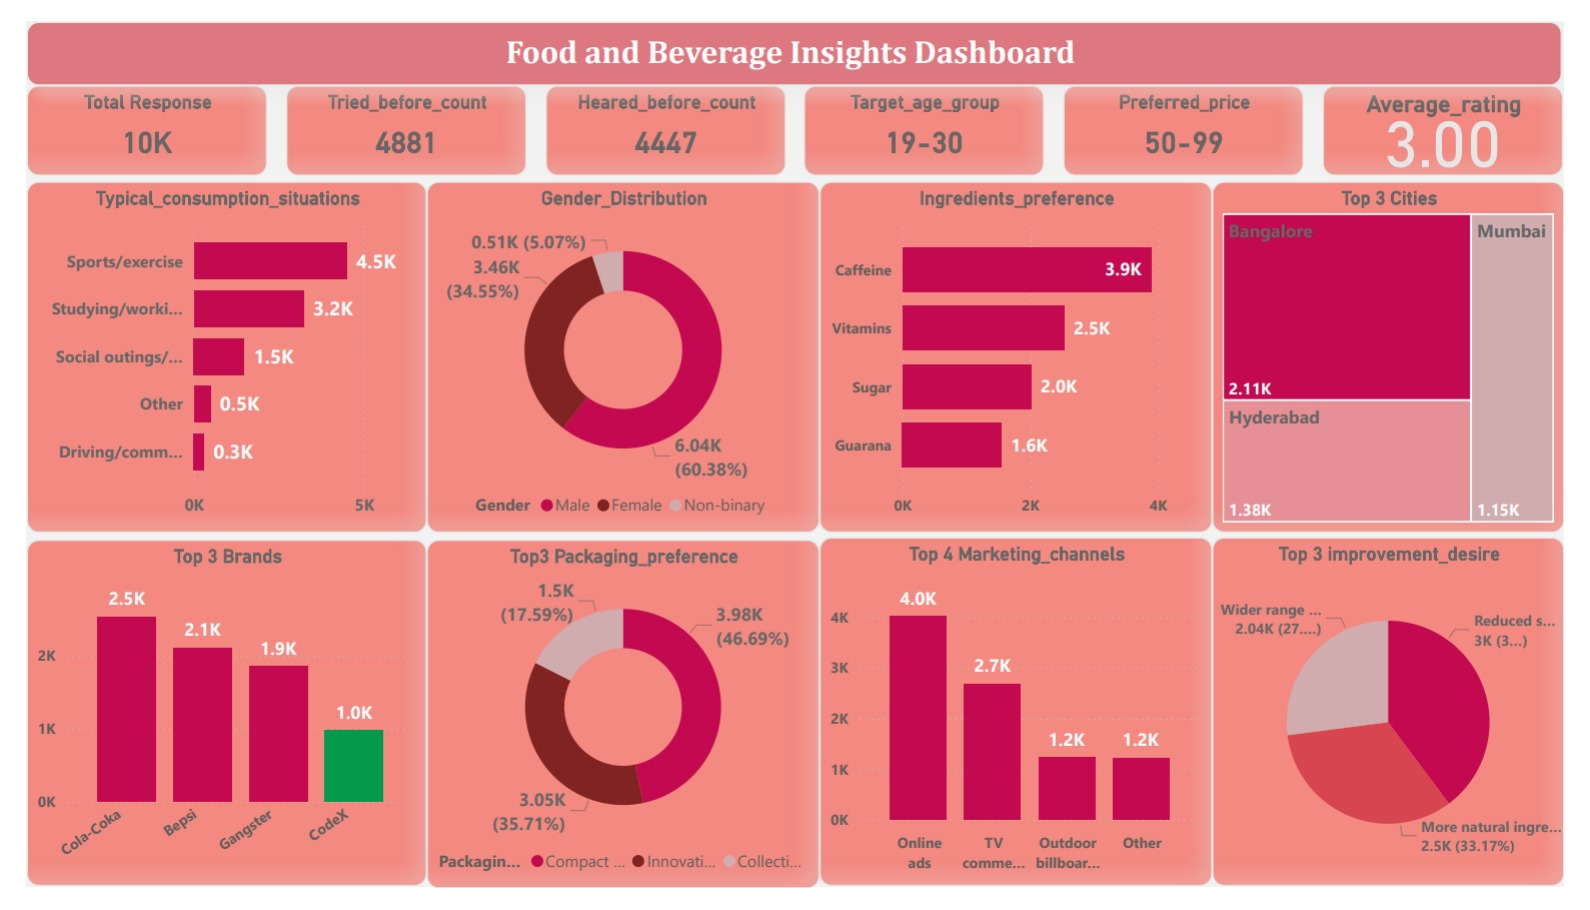

What the dashboard file says about the page in this screenshot:
{"tool":"powerbi","page":{"name":"Final Insights","canvas":[1280,720],"ordinal":3},"visuals":[{"type":"card","title":"Total Response","fields":{"Values":["CountNonNull(fact_survey_responses.Response_ID)"]},"box":[0,53,200,75],"z":0},{"type":"card","title":"Tried_before_count","fields":{"Values":["fact_survey_responses.Tried_count"]},"box":[215.8,53,200,75],"z":1000},{"type":"card","title":"Heared_before_count","fields":{"Values":["fact_survey_responses.Heard_count"]},"box":[431.5,53,200,75],"z":2000},{"type":"card","title":"Target_age_group ","fields":{"Values":["Min(dim_repondents.Age)"]},"box":[647.3,53,200,75],"z":3000},{"type":"card","title":"Preferred_price ","fields":{"Values":["Min(fact_survey_responses.Price_range)"]},"box":[863,53,200,75],"z":4000},{"type":"kpi","title":"Average_rating ","fields":{"Indicator":["Avg(fact_survey_responses.Taste_experience)"],"TrendLine":["dim_repondents.Respondent_ID"]},"box":[1078.8,53,200.7,75],"z":5000},{"type":"clusteredBarChart","title":"Typical_consumption_situations","fields":{"Category":["fact_survey_responses.Typical_consumption_situations"],"Y":["CountNonNull(dim_repondents.Respondent_ID)"]},"box":[0,133.4,333.4,291.2],"z":6000},{"type":"donutChart","title":"Gender_Distribution","fields":{"Category":["dim_repondents.Gender"],"Y":["CountNonNull(dim_repondents.Respondent_ID)"]},"box":[333.4,133.4,326.9,291.2],"z":7000},{"type":"barChart","title":"Ingredients_preference","fields":{"Category":["fact_survey_responses.Ingredients_expected"],"Y":["CountNonNull(dim_repondents.Respondent_ID)"]},"box":[660.4,133.4,326.9,291.2],"z":8000},{"type":"columnChart","title":"Top 3 Brands","fields":{"Category":["fact_survey_responses.Current_brands"],"Y":["CountNonNull(dim_repondents.Respondent_ID)"]},"box":[0,431,333.4,287.9],"z":9000},{"type":"donutChart","title":"Top3 Packaging_preference","fields":{"Y":["CountNonNull(dim_repondents.Respondent_ID)"],"Category":["fact_survey_responses.Packaging_preference"]},"box":[333.4,431,326.9,289.5],"z":10000},{"type":"columnChart","title":"Top 4 Marketing_channels","fields":{"Y":["CountNonNull(dim_repondents.Respondent_ID)"],"Category":["fact_survey_responses.Marketing_channels"]},"box":[660.4,429.4,326.9,289.5],"z":11000},{"type":"treemap","title":"Top 3 Cities","fields":{"Group":["dim_cities.City"],"Values":["CountNonNull(dim_repondents.Respondent_ID)"]},"box":[987.3,133.4,292.8,291.2],"z":12000},{"type":"pieChart","title":"Top 3 improvement_desire","fields":{"Category":["fact_survey_responses.Improvements_desired"],"Y":["CountNonNull(dim_repondents.Respondent_ID)"]},"box":[987.3,429.4,292.8,289.5],"z":13000},{"type":"textbox","box":[0,0,1278.5,53],"z":14000}]}

Visuals, with their boxes in screenshot pixels (x1, y1, x2, y2), scaled from the page's 1280x720 canvas onto the 1590x910 screenshot:
"Total Response" card: 0,67,248,162
"Tried_before_count" card: 268,67,517,162
"Heared_before_count" card: 536,67,784,162
"Target_age_group " card: 804,67,1053,162
"Preferred_price " card: 1072,67,1320,162
"Average_rating " kpi: 1340,67,1589,162
"Typical_consumption_situations" clusteredBarChart: 0,169,414,537
"Gender_Distribution" donutChart: 414,169,820,537
"Ingredients_preference" barChart: 820,169,1226,537
"Top 3 Brands" columnChart: 0,545,414,909
"Top3 Packaging_preference" donutChart: 414,545,820,909
"Top 4 Marketing_channels" columnChart: 820,543,1226,909
"Top 3 Cities" treemap: 1226,169,1589,537
"Top 3 improvement_desire" pieChart: 1226,543,1589,909
textbox: 0,0,1588,67
